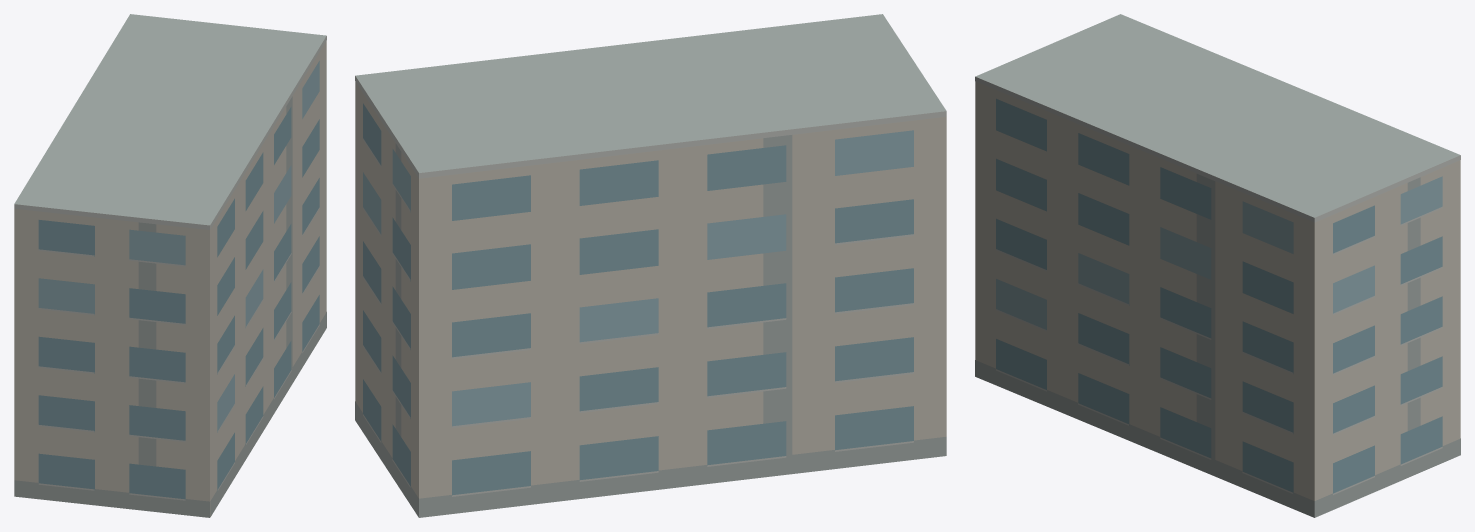
File: survey-upis-32761971.glb
3 views of the same model, side by side, from view 1: azimuth 30°, elevation 25°; view 2: azimuth 150°, elevation 25°; view 3: azimuth 270°, elevation 25° (orthographic). The views are drawn at different scales.
Parts seen in each view (by area): view 1: survey-upis-32761971.tmp; view 2: survey-upis-32761971.tmp; view 3: survey-upis-32761971.tmp.
Boxes of the visible parts, bbox=[...] form: survey-upis-32761971.tmp: bbox=[14, 14, 326, 517]; survey-upis-32761971.tmp: bbox=[355, 14, 946, 517]; survey-upis-32761971.tmp: bbox=[975, 14, 1460, 517].
Size of the model in its own units: 22.23 by 15.25 by 22.38.
